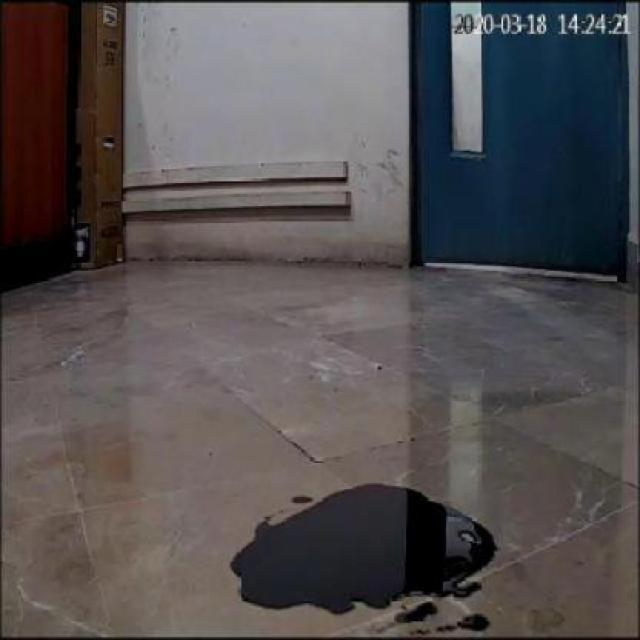spillage: (228, 480, 503, 613)
